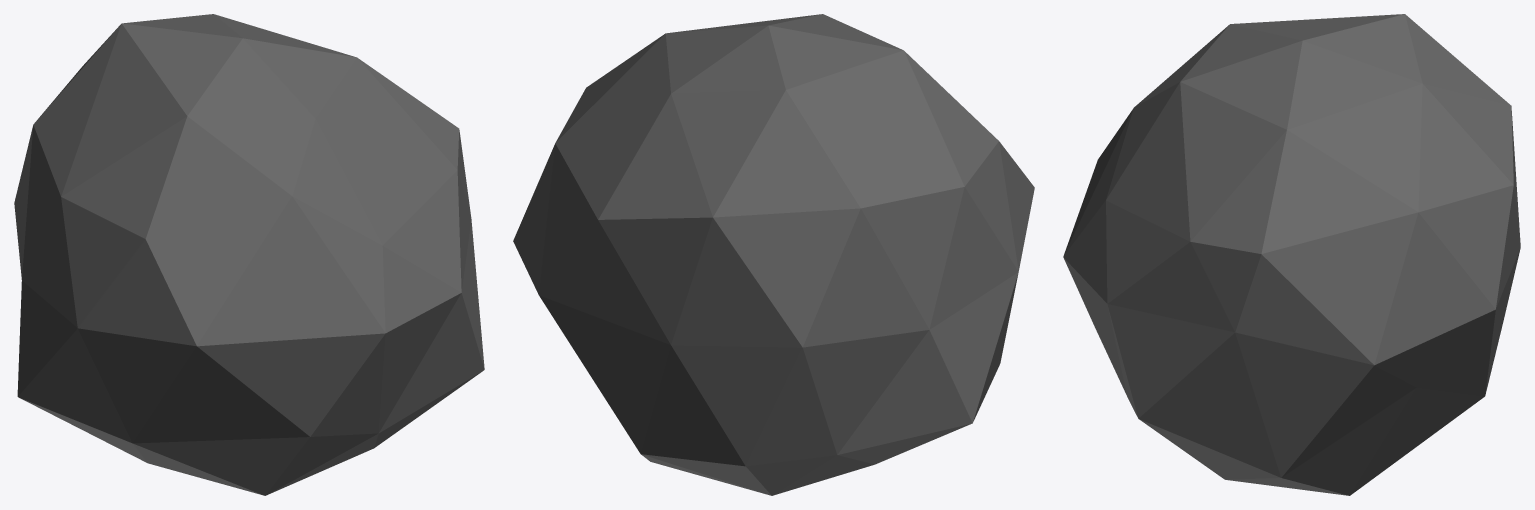
File: boulder.glb
3 renders of one model, left to right at view 1: azimuth 30°, elevation 25°; view 2: azimuth 150°, elevation 25°; view 3: azimuth 270°, elevation 25°, orthographic. The views are drawn at different scales.
Parts seen in each view (by area): view 1: Icosphere; view 2: Icosphere; view 3: Icosphere.
Boxes of the visible parts, x1,y1,x2,y2 form: Icosphere: (14,14,484,495); Icosphere: (513,14,1034,495); Icosphere: (1063,14,1520,495).
Bounding box in the file's own units: 1.98 × 1.96 × 1.92.
1 material, 1 textured.
